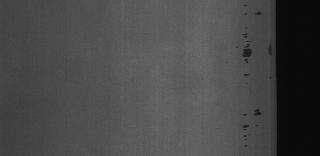oil spot: (237, 104, 267, 138), (239, 28, 257, 78), (250, 7, 268, 18), (266, 44, 274, 58), (243, 2, 249, 17), (268, 72, 274, 80)
